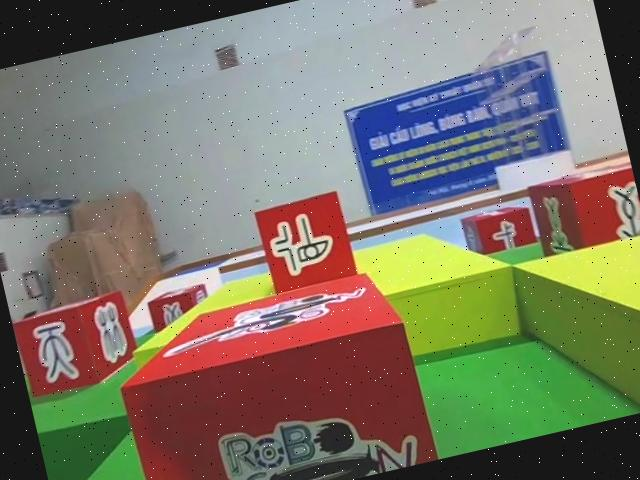R1: (102, 262, 439, 480)
R2 Fake: (8, 284, 142, 398)
R2 Real: (522, 158, 640, 268), (248, 185, 361, 298), (458, 198, 541, 268)
